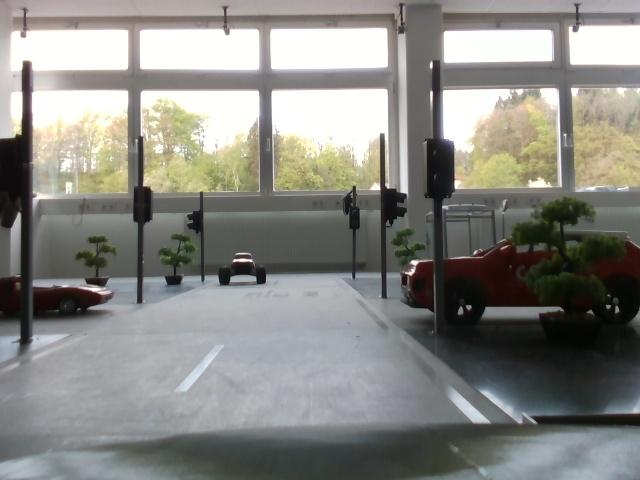car: (412, 233, 640, 336), (2, 277, 109, 328), (221, 235, 267, 291)
potted plant: (519, 200, 622, 348), (81, 231, 117, 289), (163, 224, 195, 289)
traffic light: (423, 137, 461, 202), (130, 187, 160, 227), (384, 188, 407, 225), (349, 209, 366, 231)
